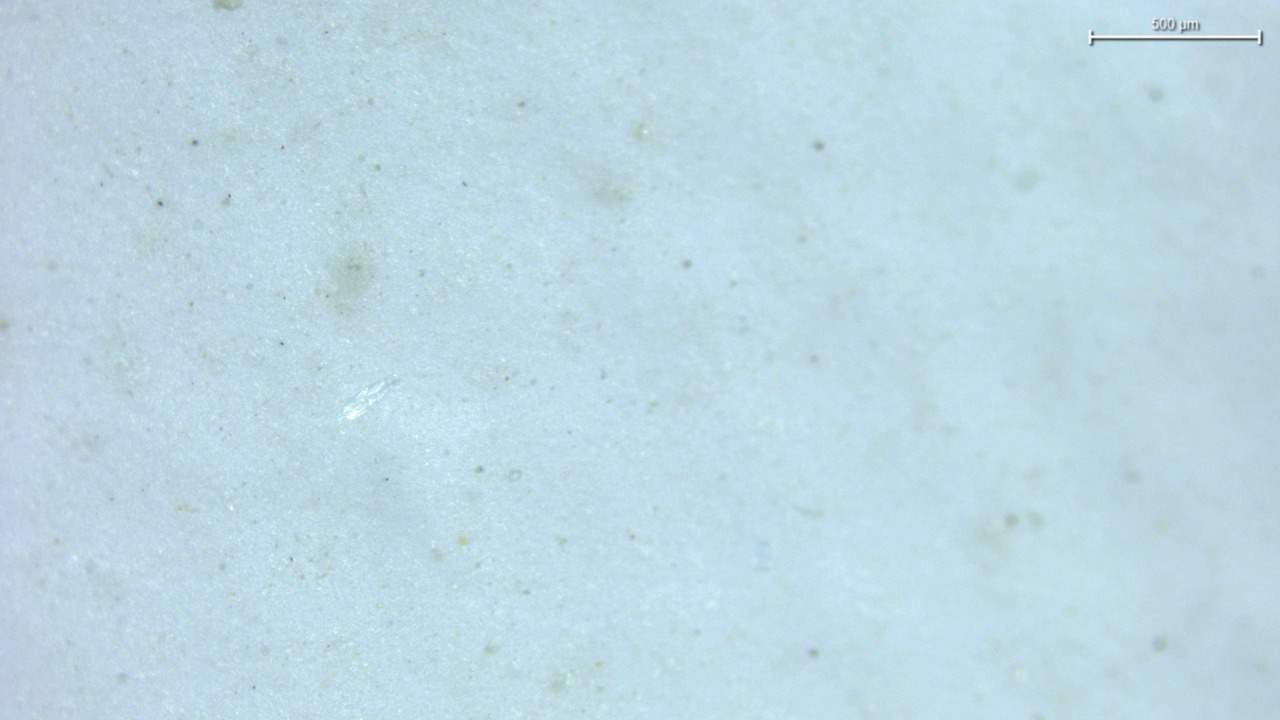microplastic_fragment: (343, 375, 397, 420)
